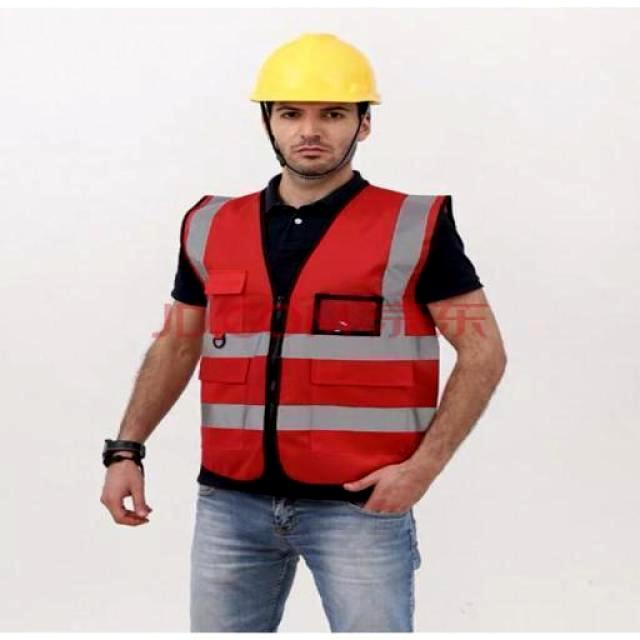hard_hat: (250, 32, 379, 102)
person: (101, 34, 505, 631)
